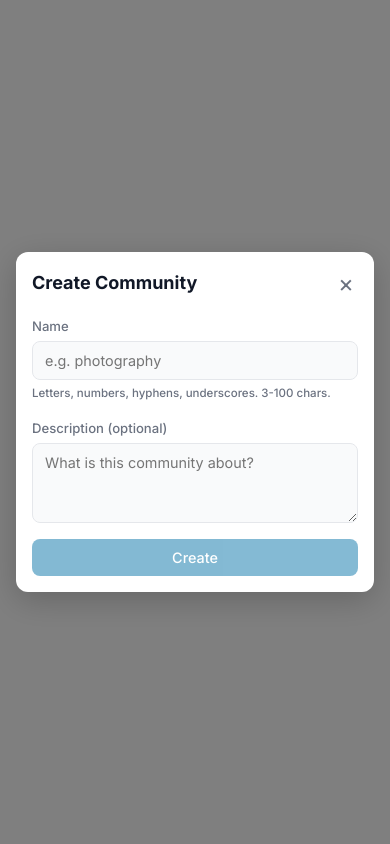
Test case: CreateCommunityModal › enables submit button when name has 3+ characters
Step 1. Type "art" into the field with placeholder "e.g. photography" → (195, 360), box [32, 341, 358, 380]
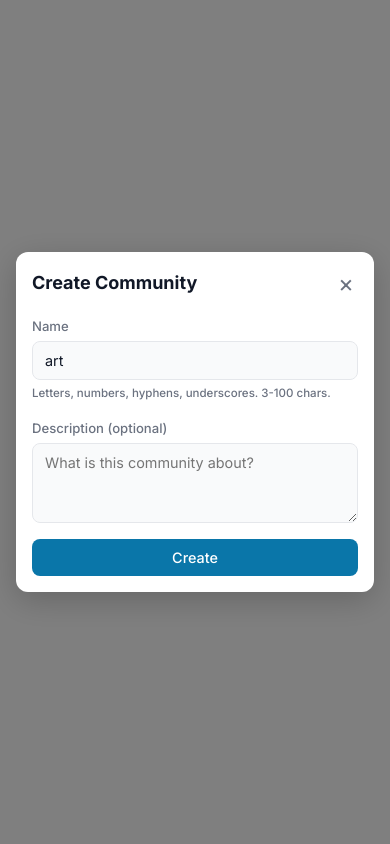
Expected: the button "Create" is enabled, [32, 539, 358, 576]
